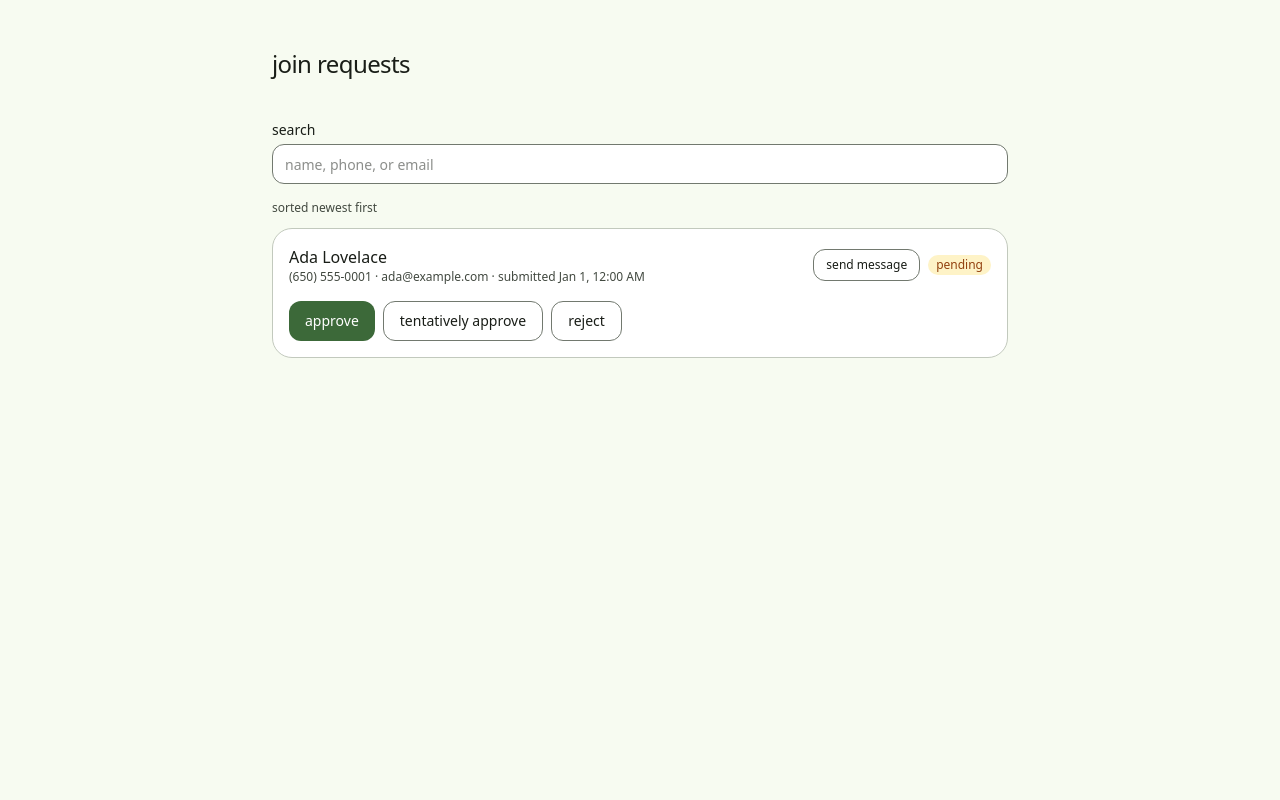
Test: JoinRequestsScreen pending actions › should confirm the named applicant without claiming reject is irreversible
Click the button "reject" at (586, 321), box [551,301,622,341]
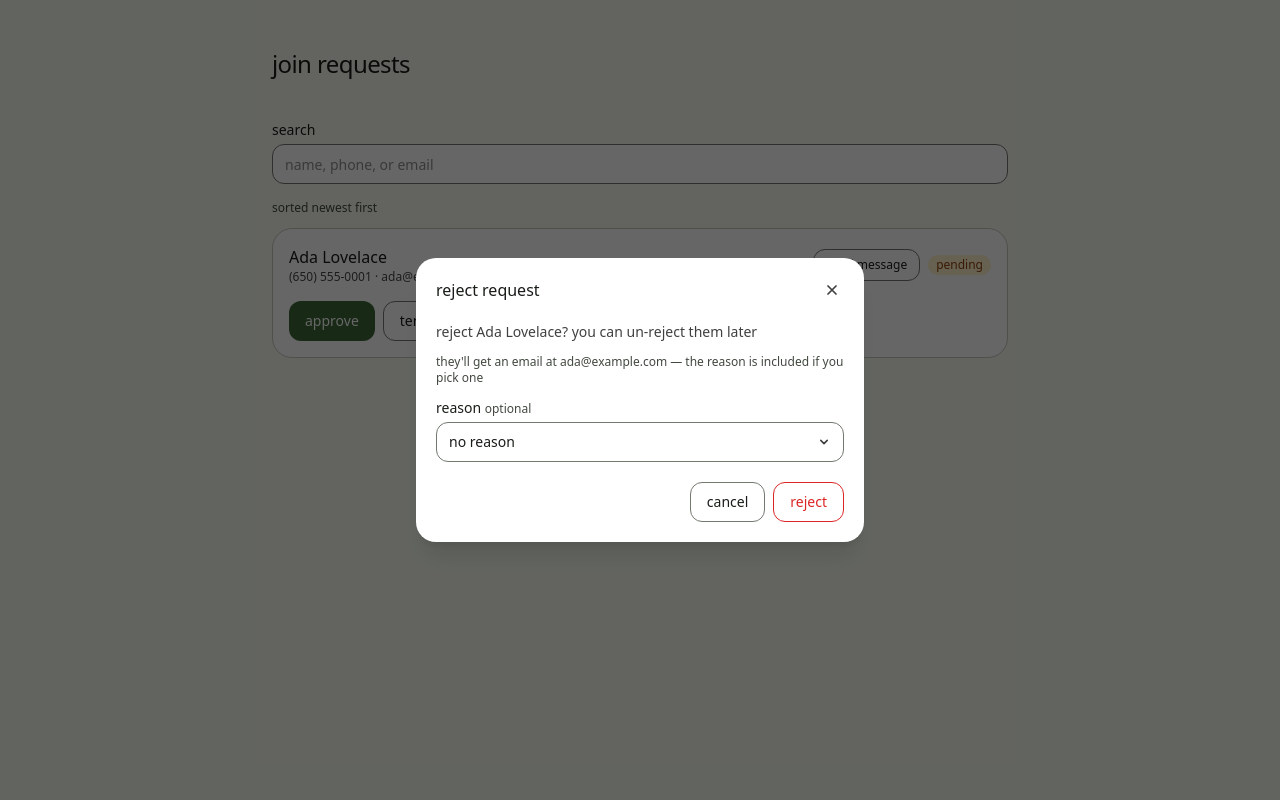
Now the text "reject Ada Lovelace? you can un-reject them later" is shown, box [436,322,757,341]
